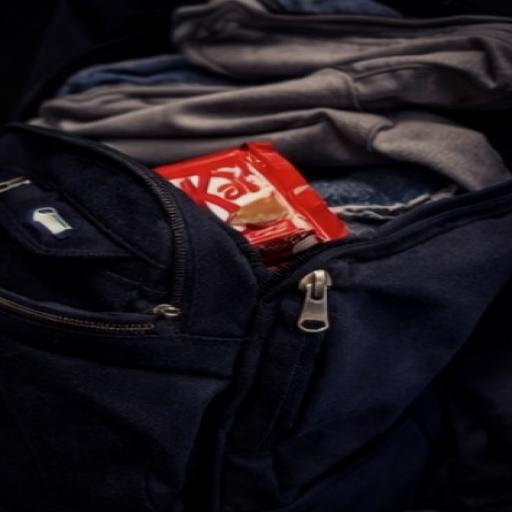kitkat: (13, 128, 434, 300)
